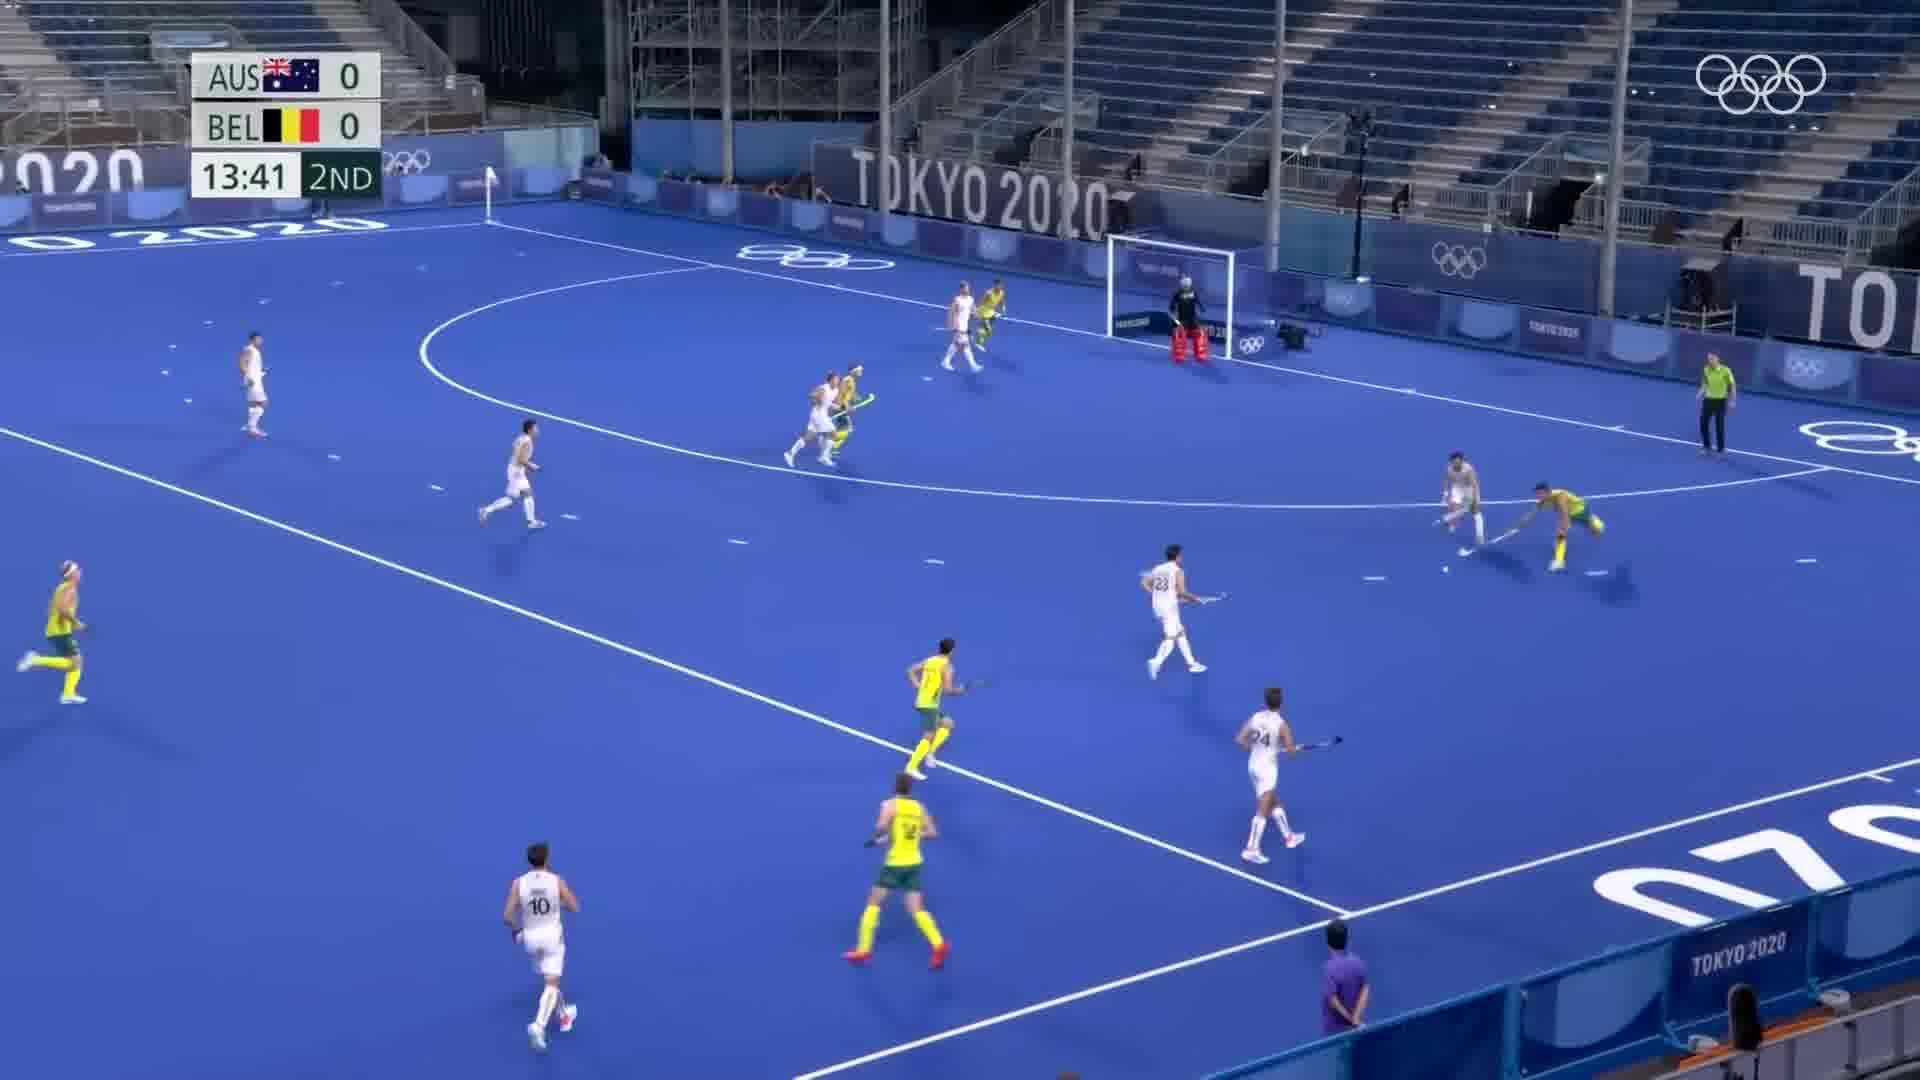ball: (1425, 559, 1458, 583)
